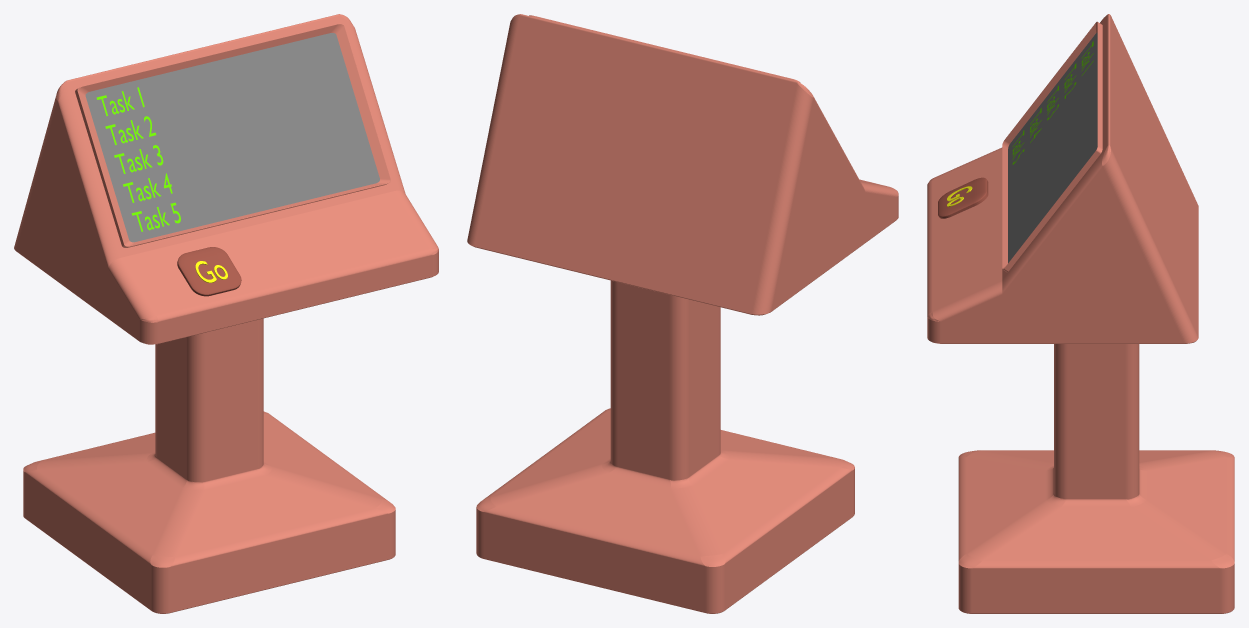
The model's file is console.glb.
The picture shows the model from 3 angles, left to right: view 1: azimuth 30°, elevation 25°; view 2: azimuth 150°, elevation 25°; view 3: azimuth 270°, elevation 25°; orthographic projection. The views are drawn at different scales.
Parts seen in each view (by area): view 1: Console, Screen, ScreenEdge, ButtonA, Text; view 2: Console; view 3: Console, Screen, ScreenEdge, ButtonA, Text.
Part boxes in pixels (x1,y1,x2,y2): Console: (14,14,438,613); Screen: (85,33,379,242); ScreenEdge: (75,23,390,247); ButtonA: (177,247,241,296); Text: (96,87,180,231); Console: (467,14,898,613); Console: (927,14,1234,613); Screen: (1008,32,1097,262); ScreenEdge: (1002,21,1102,272); ButtonA: (938,177,988,218); Text: (1012,41,1093,164).
Bounding box in the file's own units: 1.23 × 1.91 × 1.11.
